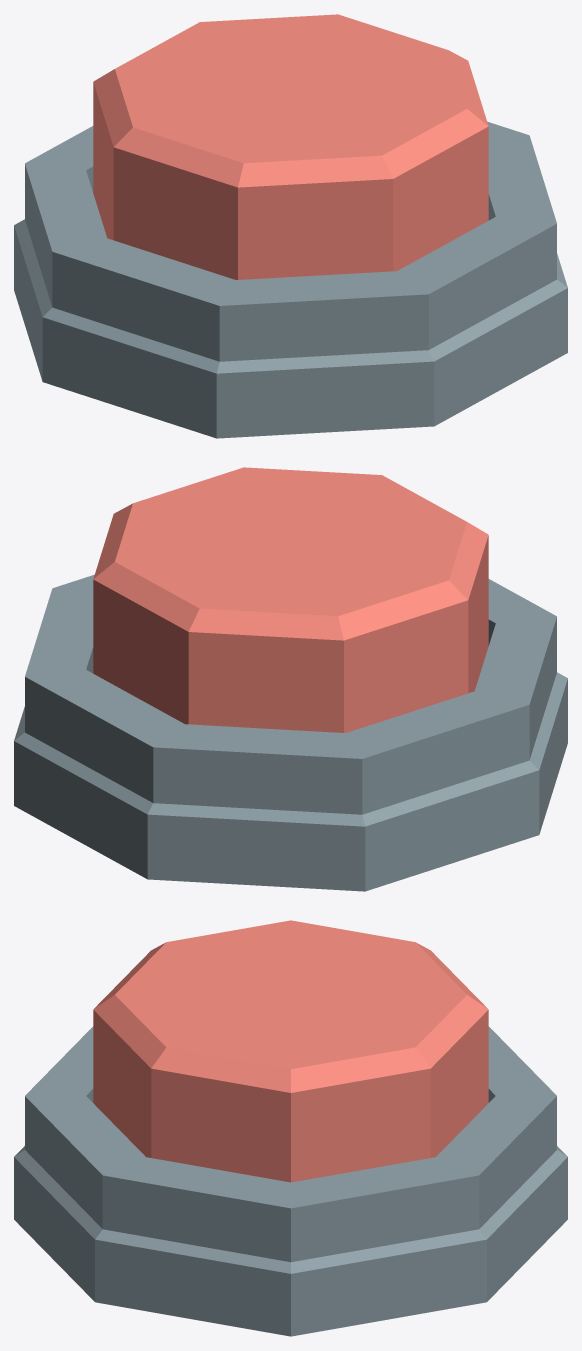
Rendered from Button_01.gltf.
3 renders of one model, top to bottom at view 1: azimuth 30°, elevation 25°; view 2: azimuth 150°, elevation 25°; view 3: azimuth 270°, elevation 25°, orthographic. The views are drawn at different scales.
Parts seen in each view (by area): view 1: node-0; view 2: node-0; view 3: node-0.
Part boxes in pixels (<box>): node-0: <box>14,14,567,438</box>; node-0: <box>14,467,567,891</box>; node-0: <box>14,920,567,1336</box>.
Size of the model in its own units: 9.97 by 4.46 by 9.97.
